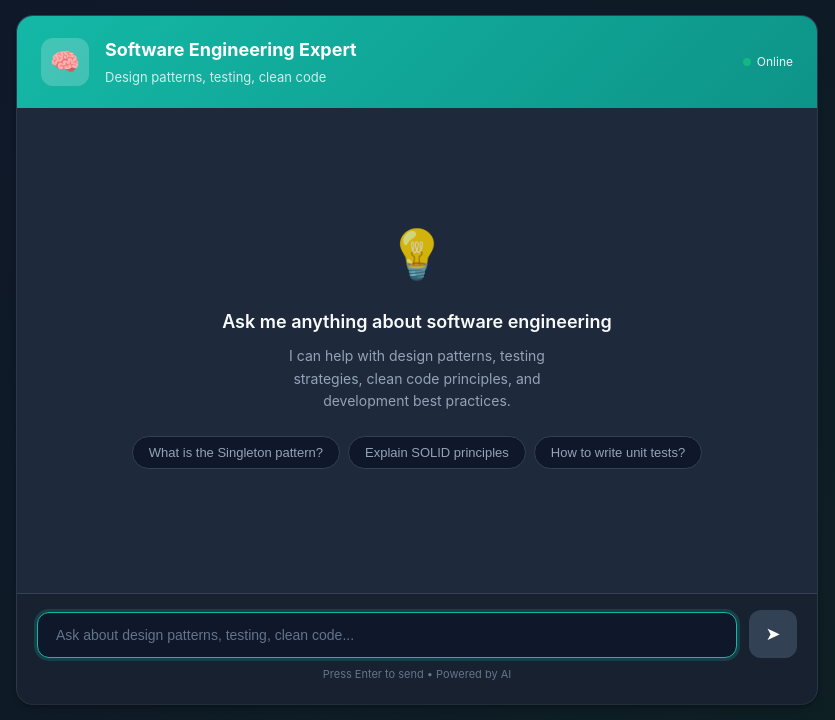
Test: ChatBox › should send message on form submit
This screenshot has width=835, height=720.
Type "Test message" into the field with placeholder "Ask about design patterns, testing, clean code...".
click(387, 635); type("Test message")  # box 37,612 -> 737,658
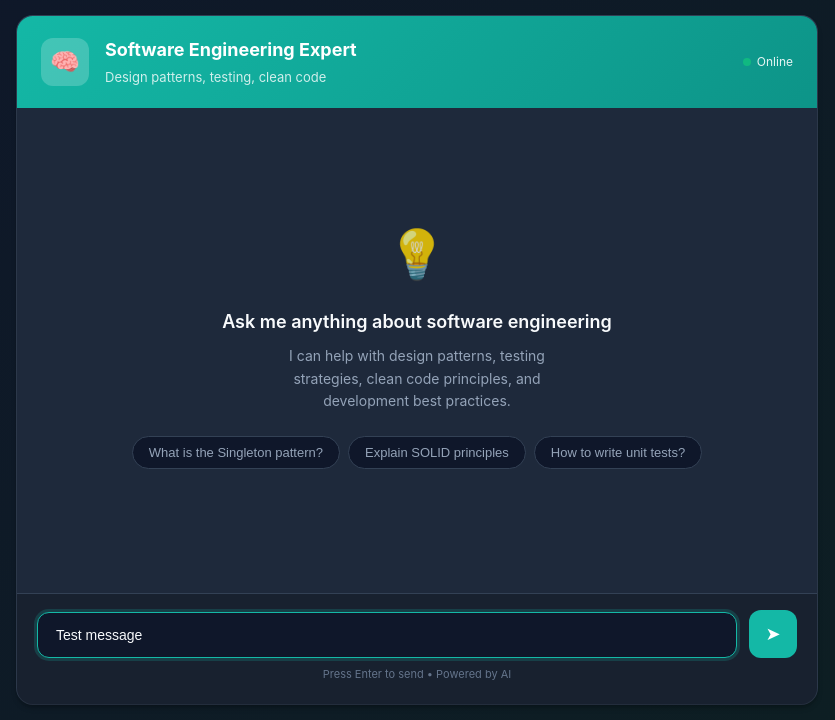
Press Enter
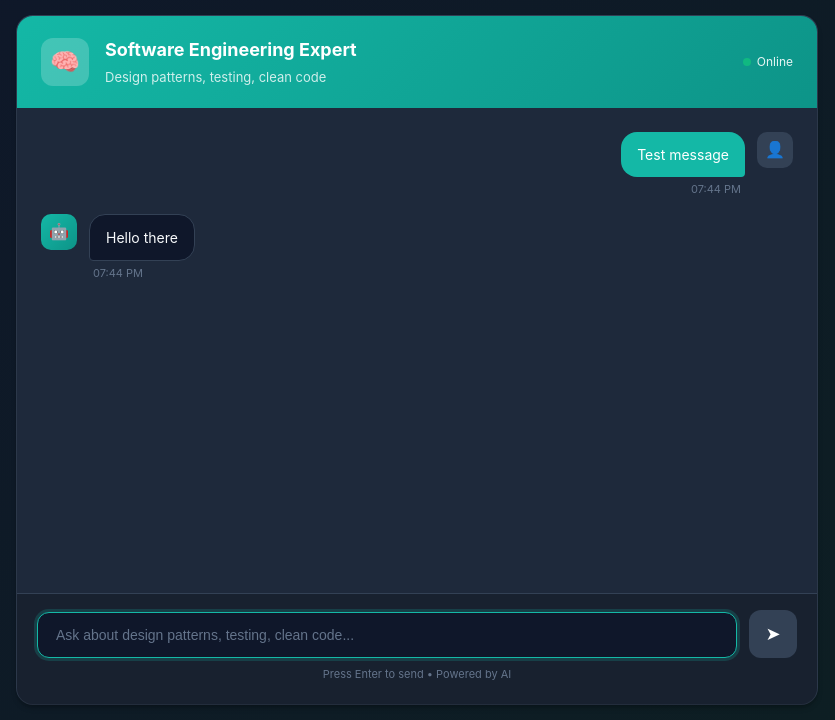
Now the text "Test message" is shown, box 621,132 -> 745,177
